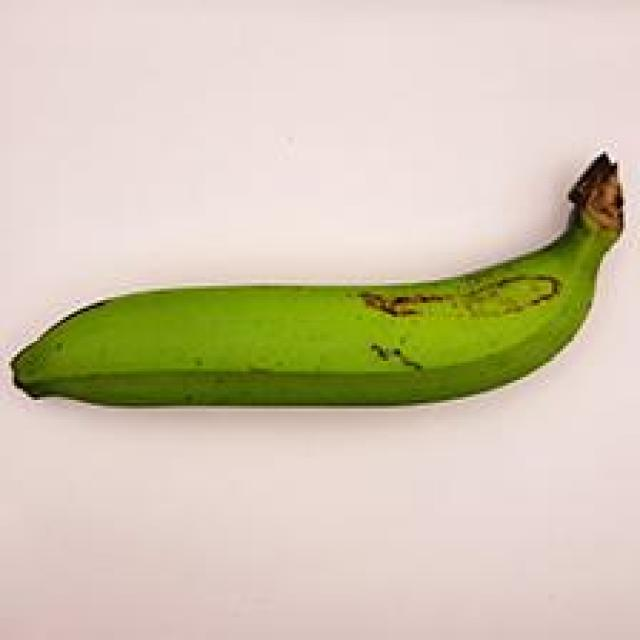Raw: (8, 137, 630, 432)
